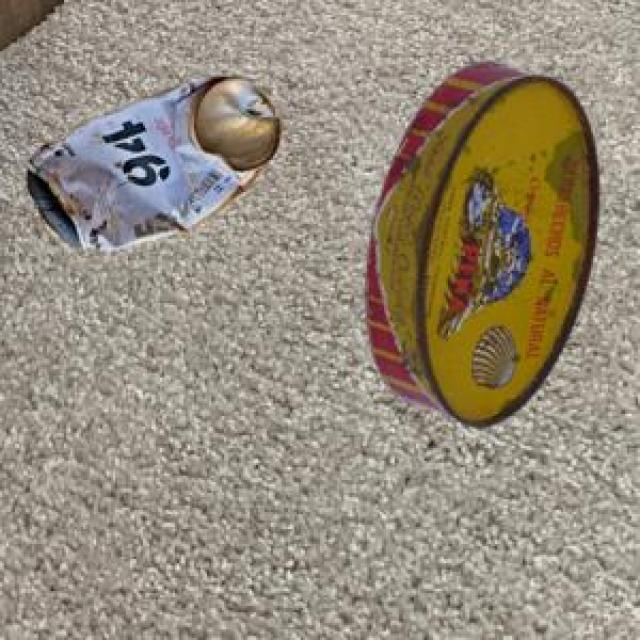Can: (362, 59, 596, 423), (25, 74, 276, 246)
